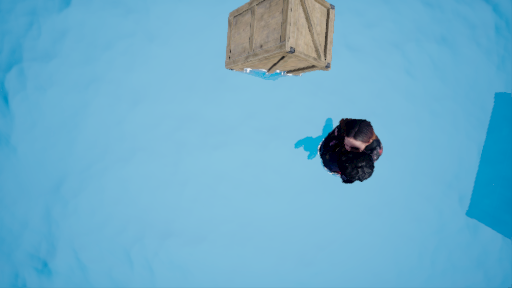person: (294, 114, 385, 189)
